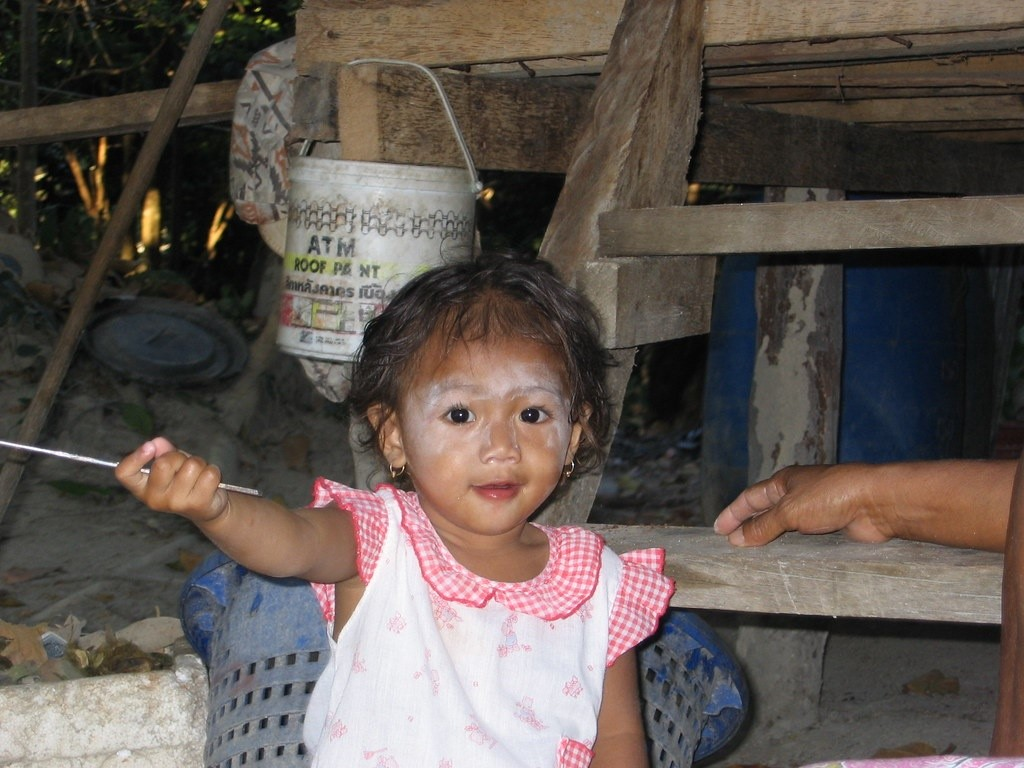face_no_mask: (362, 261, 595, 539)
